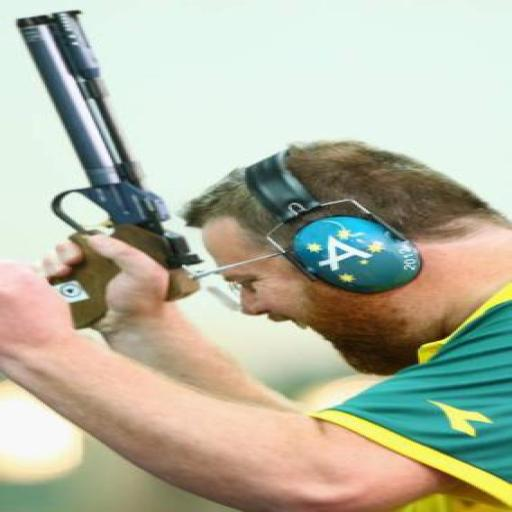shooting: (0, 137, 510, 511)
